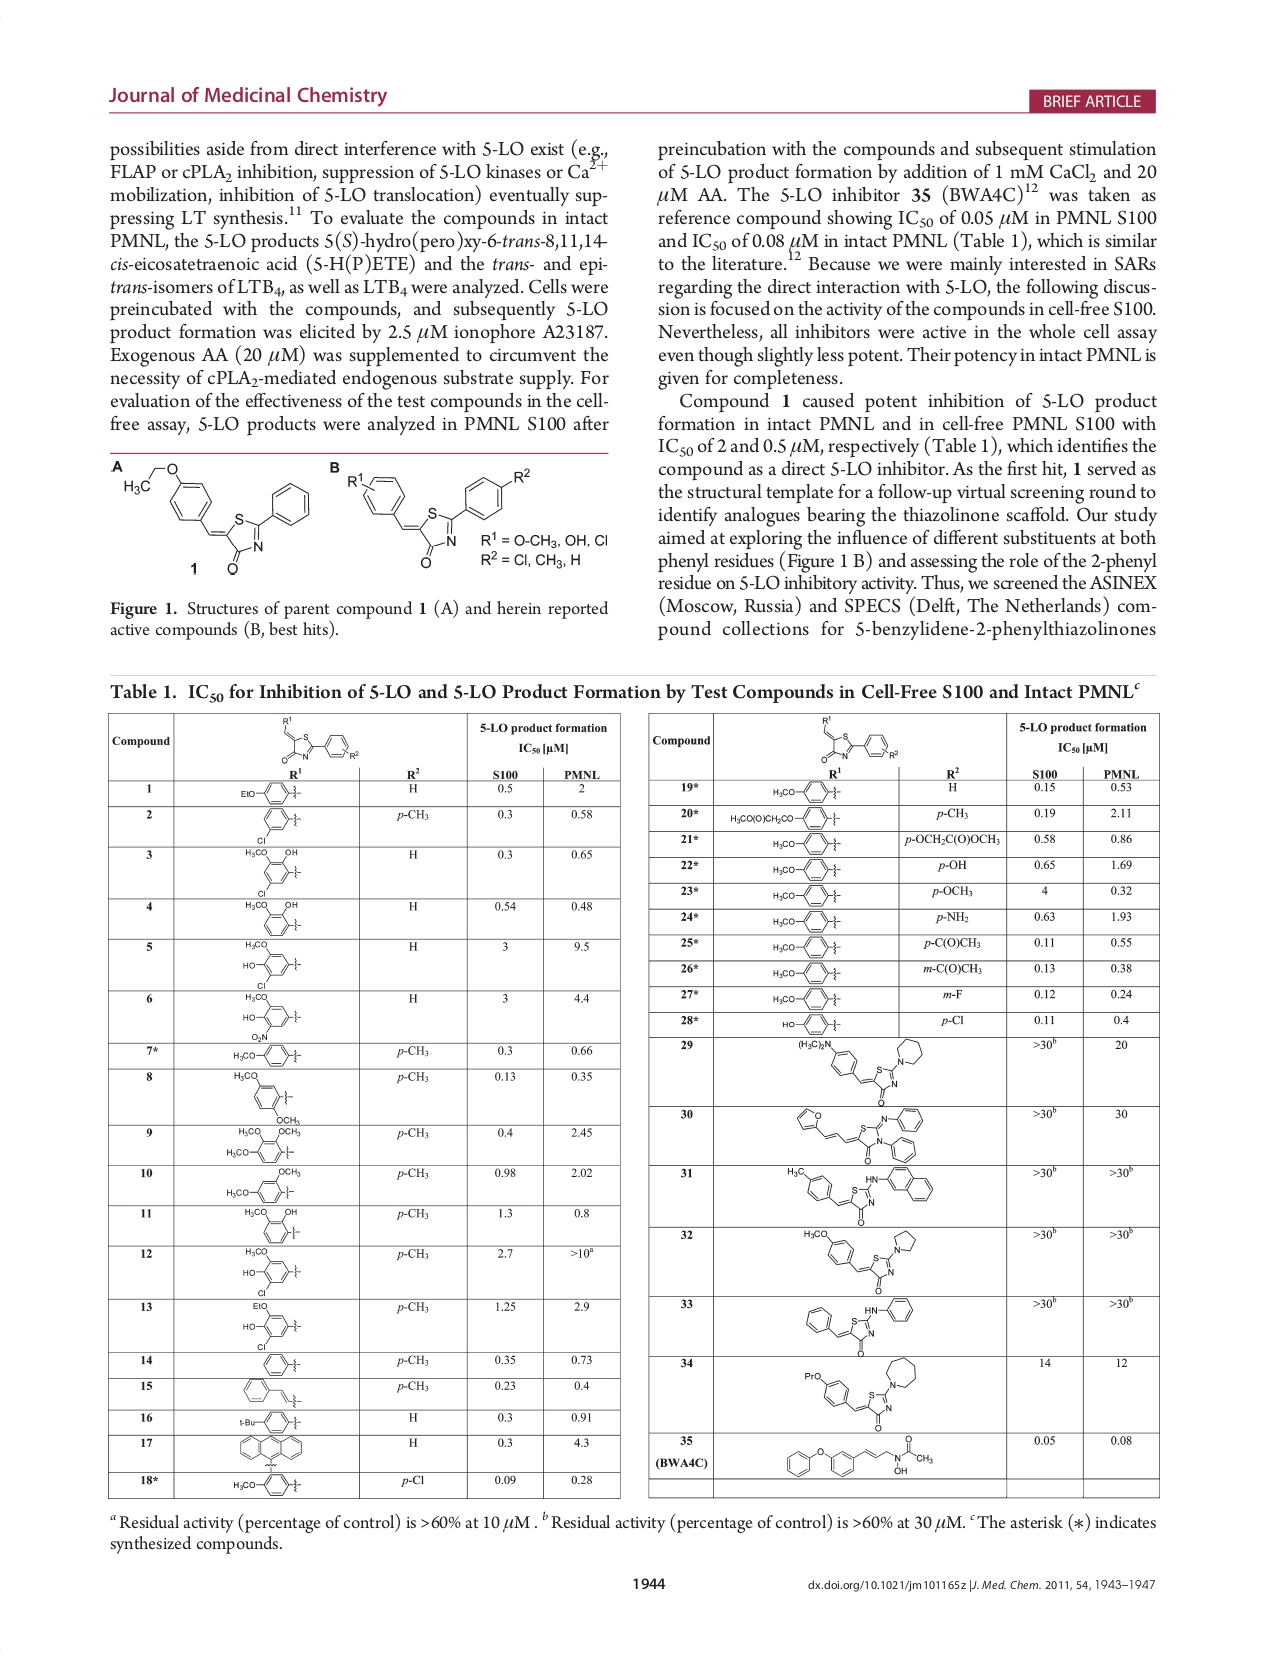exist_molecular: (122, 459, 316, 576), (344, 463, 533, 571), (785, 1165, 934, 1226), (797, 1037, 924, 1106), (805, 1356, 918, 1434), (802, 1226, 918, 1295), (797, 1106, 926, 1164), (805, 1297, 914, 1356), (785, 1435, 934, 1477), (269, 713, 360, 766), (811, 714, 902, 766), (231, 1067, 305, 1125), (239, 989, 305, 1043), (239, 1246, 303, 1298), (225, 1124, 302, 1166), (239, 938, 302, 989), (242, 1299, 302, 1350), (223, 1166, 301, 1204), (241, 848, 301, 896), (729, 806, 840, 831), (235, 1432, 305, 1472), (239, 1376, 307, 1412), (243, 896, 301, 938), (241, 1206, 301, 1243), (230, 1471, 305, 1499), (251, 806, 302, 844), (770, 778, 843, 803), (231, 1043, 303, 1068), (769, 910, 844, 934), (770, 856, 843, 880), (769, 884, 840, 908), (238, 1408, 305, 1434), (773, 833, 842, 856), (773, 962, 842, 985), (773, 987, 842, 1011), (769, 935, 842, 958), (239, 781, 302, 806), (781, 1013, 842, 1036), (259, 1350, 302, 1378)
